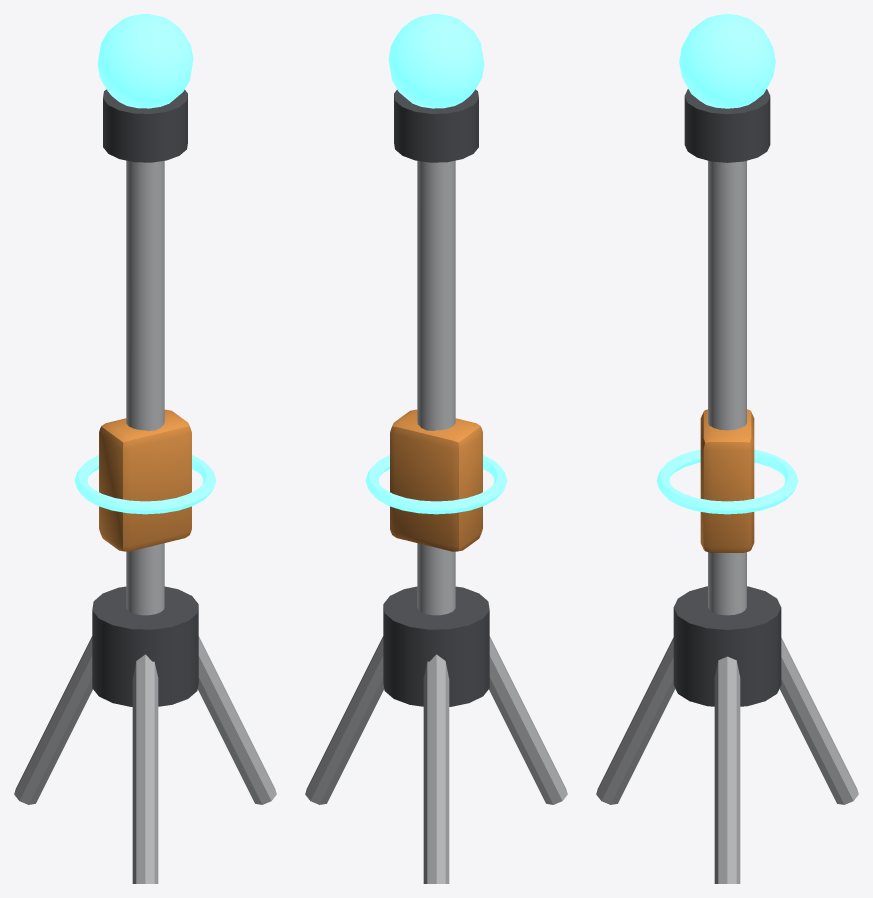
The model's file is beacon.glb.
The picture shows the model from 3 angles, left to right: view 1: azimuth 30°, elevation 25°; view 2: azimuth 150°, elevation 25°; view 3: azimuth 270°, elevation 25°; orthographic projection.
Visible parts, largest first — view 1: beacon; view 2: beacon; view 3: beacon.
Boxes of the visible parts, x1,y1,x2,y2 form: beacon: [14, 14, 276, 883]; beacon: [305, 14, 567, 883]; beacon: [596, 14, 858, 883].
Bounding box in the file's own units: 0.215 × 0.8343 × 0.2445.
